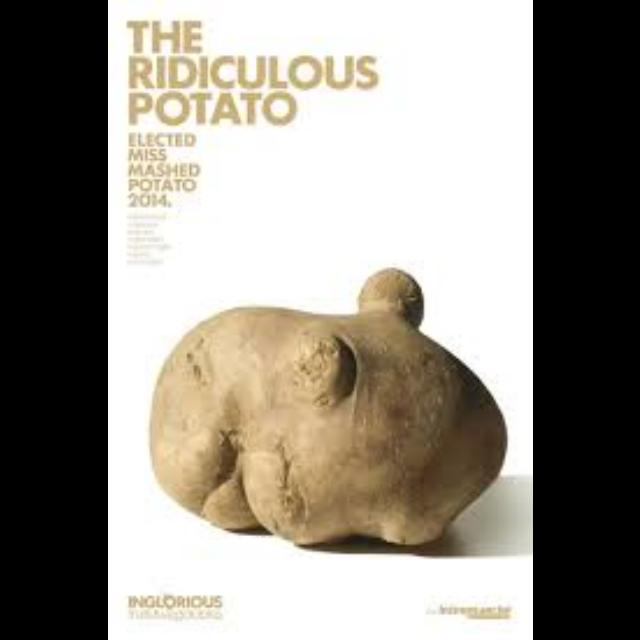Damaged potato: (147, 265, 516, 549)
